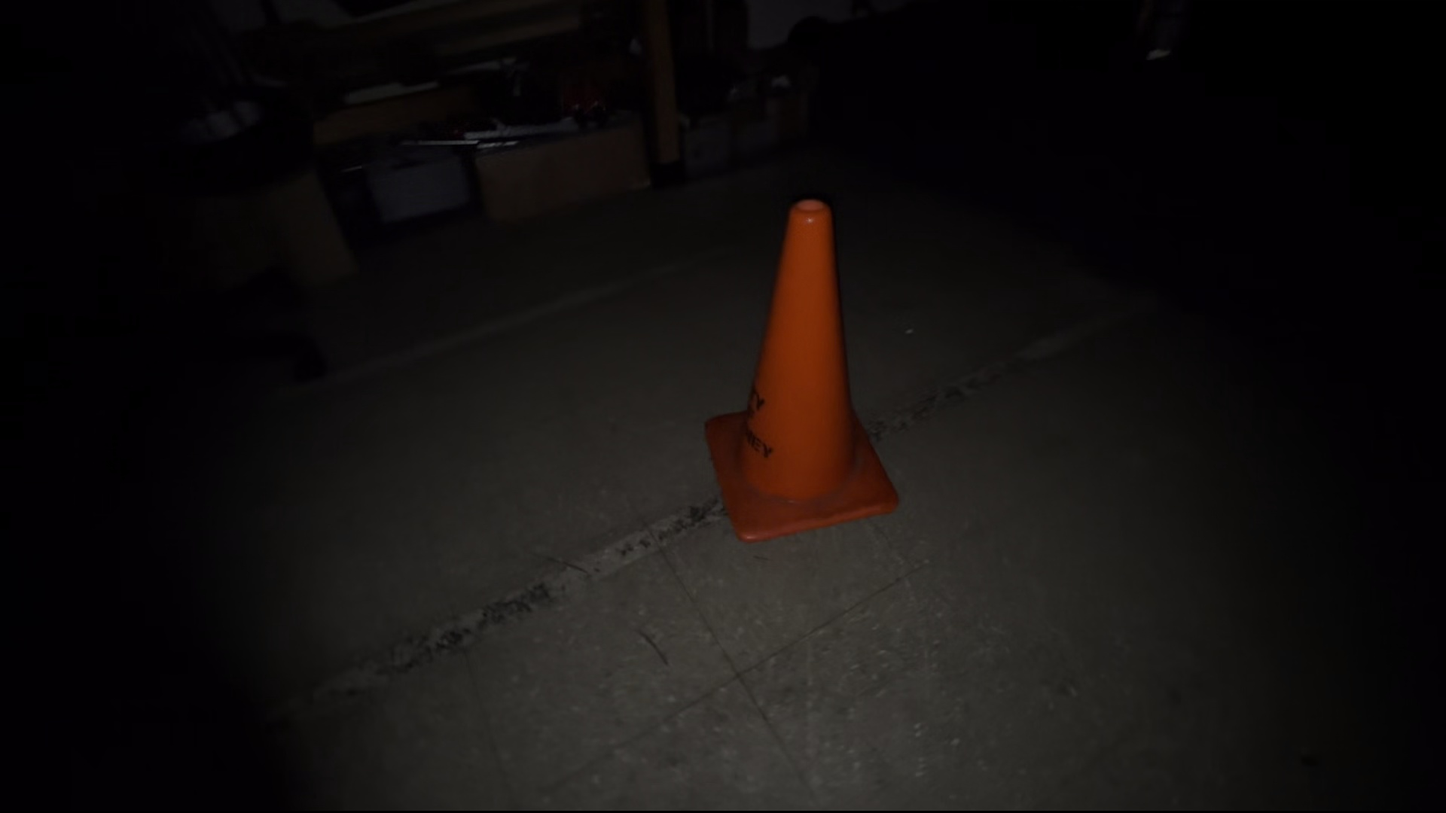traffic_cone: (703, 197, 901, 543)
